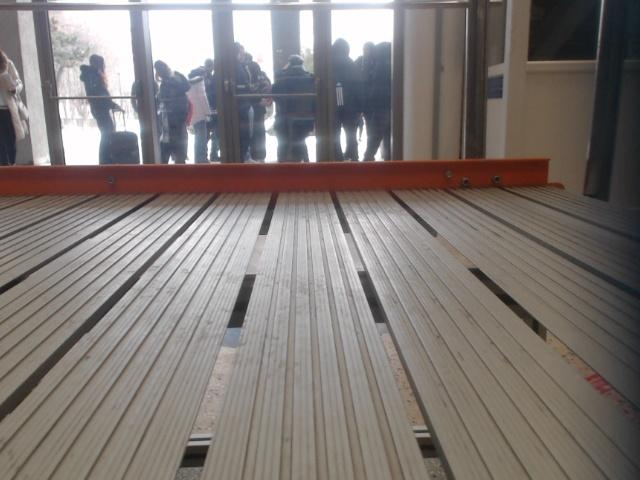rampDown: (0, 159, 639, 479)
